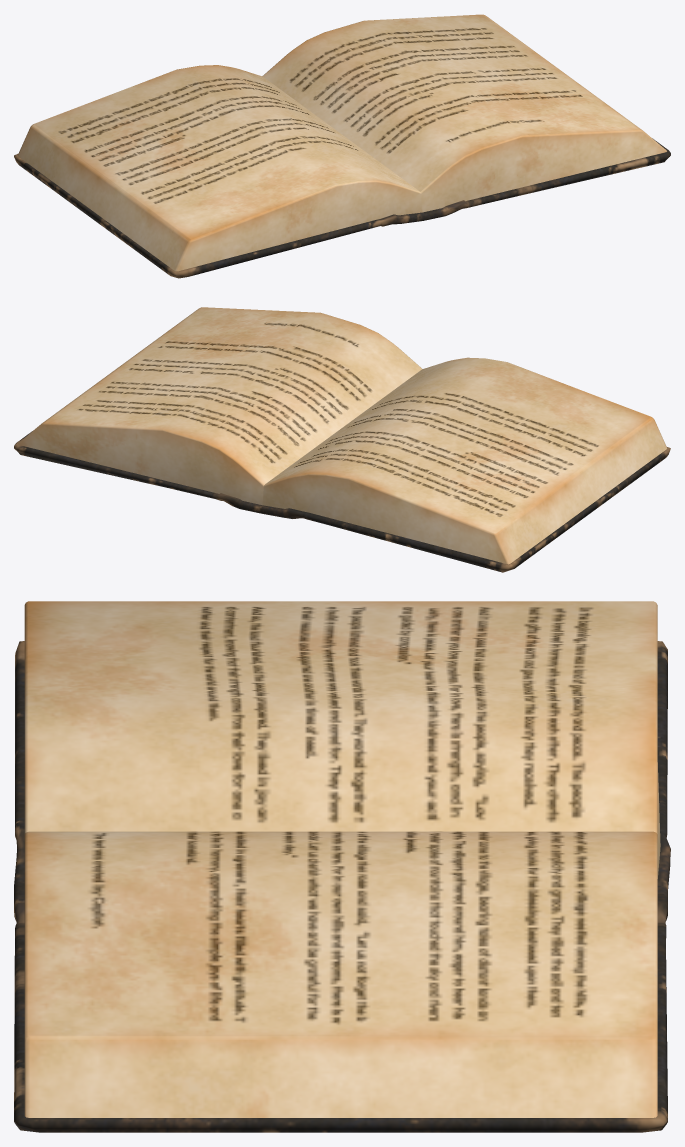
Rendered from Book_B.fbx.
3 views of the same model, one above another, from view 1: azimuth 30°, elevation 25°; view 2: azimuth 150°, elevation 25°; view 3: azimuth 270°, elevation 25° (orthographic). The views are drawn at different scales.
Visible parts, largest first — view 1: Book_B; view 2: Book_B; view 3: Book_B.
Part boxes in pixels (<box>): Book_B: <box>14,14,670,278</box>; Book_B: <box>14,307,670,572</box>; Book_B: <box>14,601,670,1132</box>.
Size of the model in its own units: 0.5798 by 0.0681 by 0.3335.
